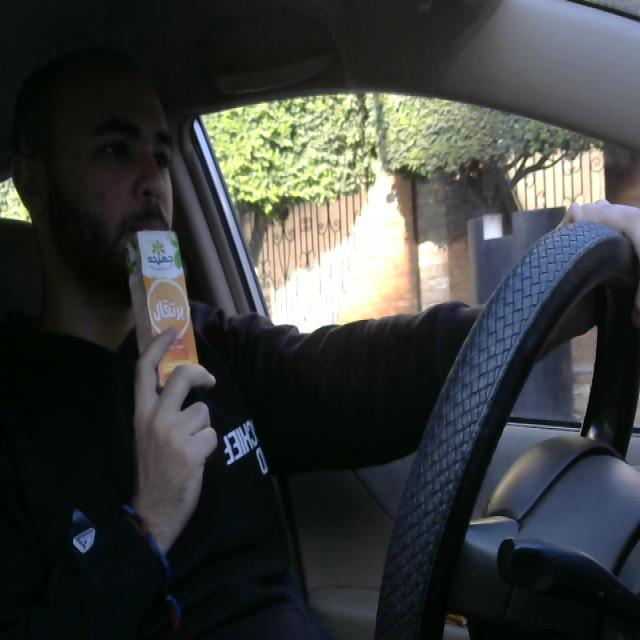drinking: (119, 215, 202, 402)
